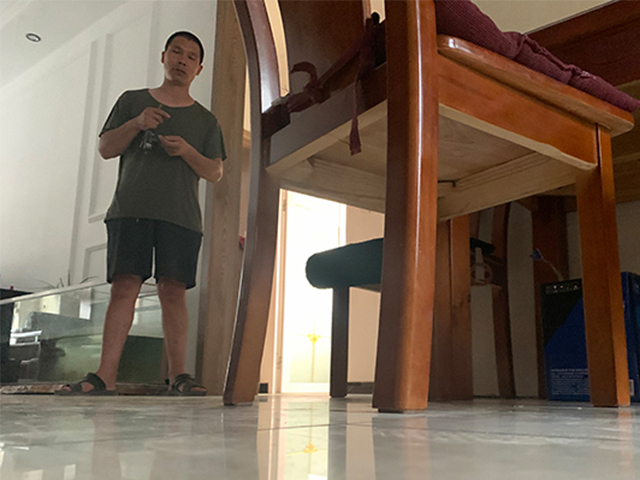stool: (221, 1, 640, 413)
